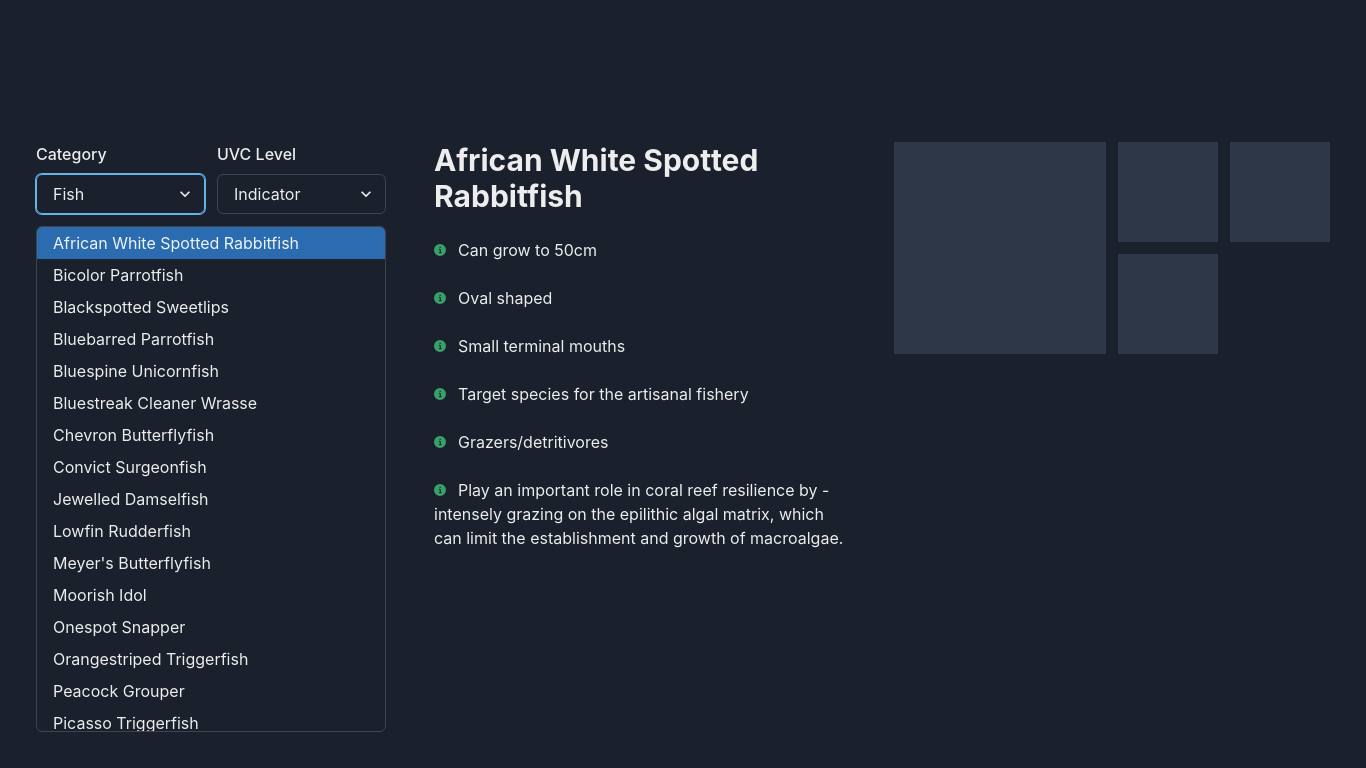
Test case: Species Catalog › can select another species
Click the text "Bluebarred Parrotfish" at (134, 339), box [53,329,214,349]
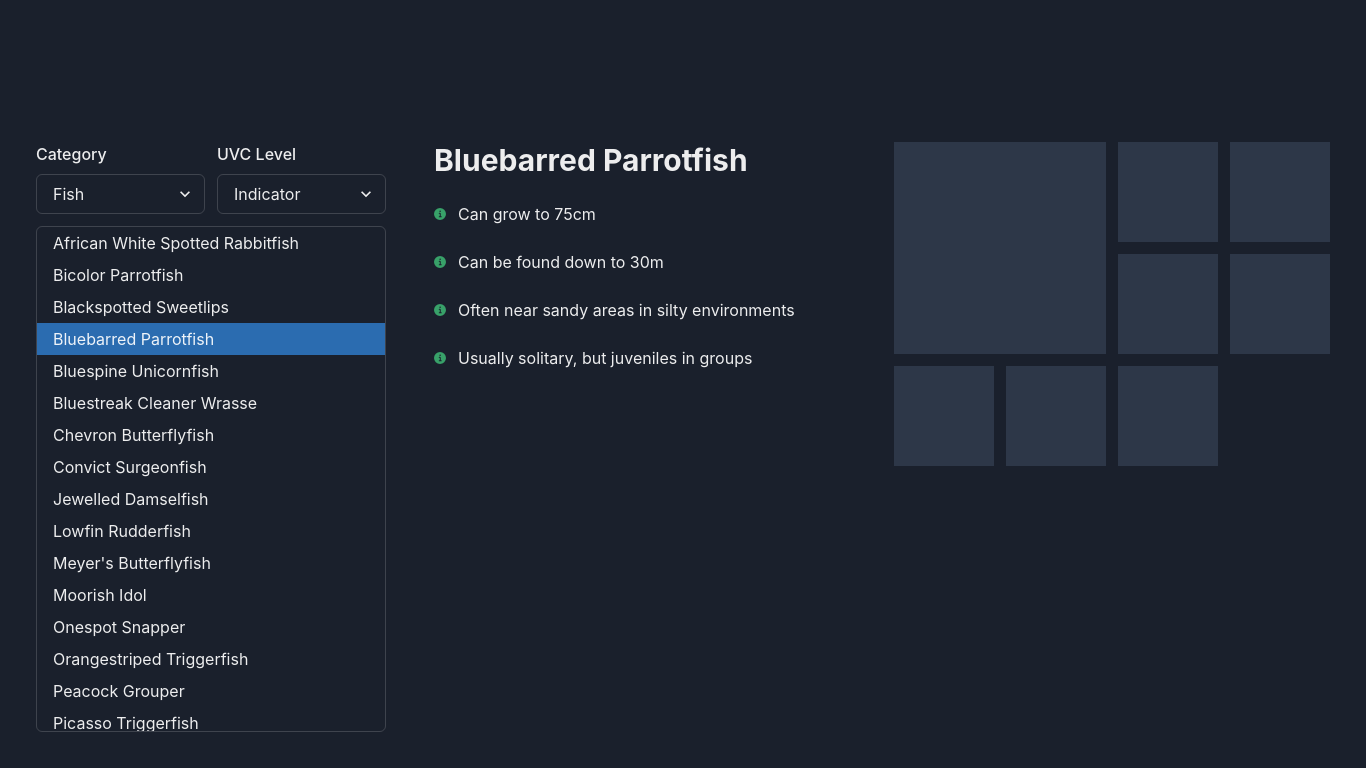
Expected: the heading "Bluebarred Parrotfish" is shown, [434,142,748,178]
